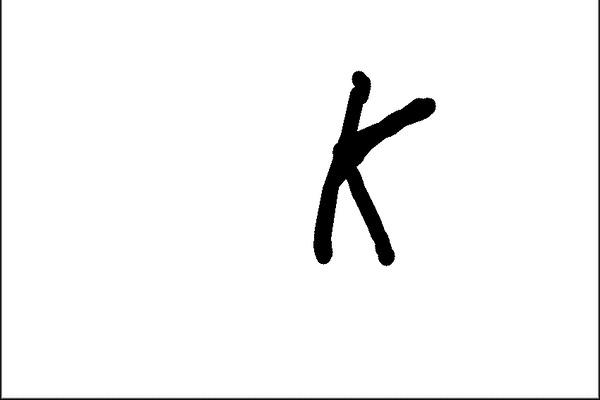K: (306, 65, 440, 272)
